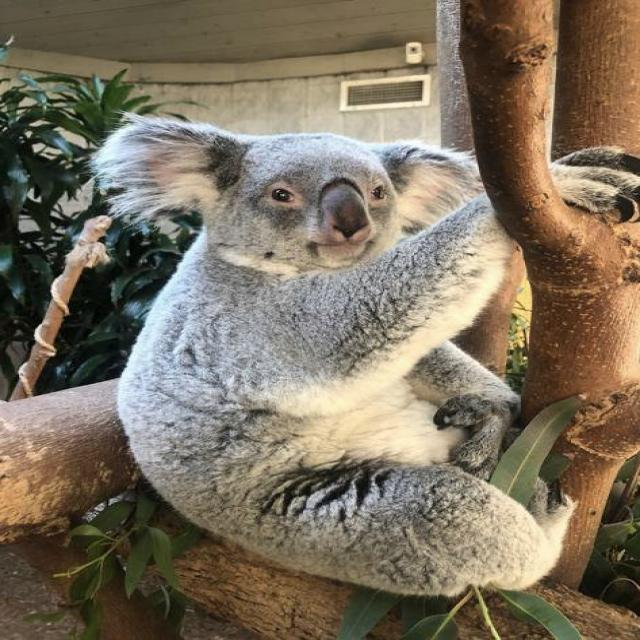koala: (93, 116, 576, 595)
